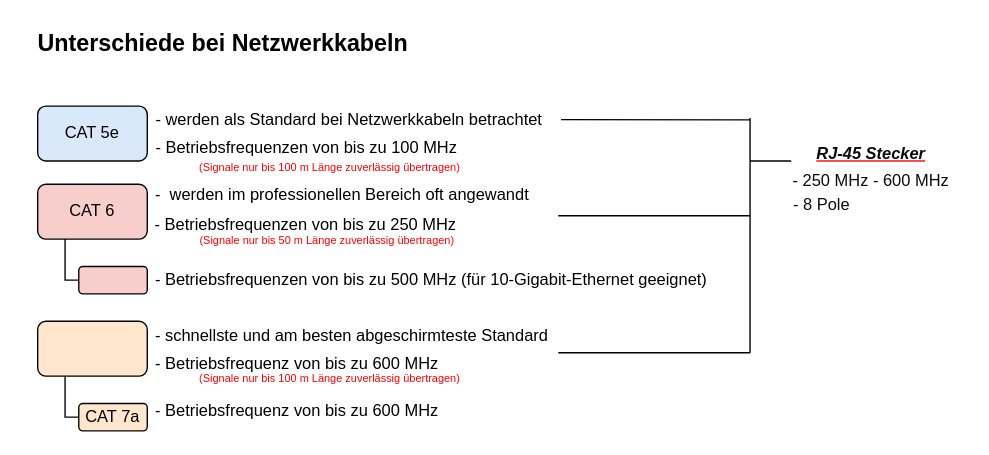
Some shapes in this 989 by 455 pixel diagram are drawn without their labels. The box of each missing label's shape, as (x1, y1, x2, y2) in pixels:
CAT 6a: (77, 265, 147, 294)
CAT 7: (36, 320, 147, 376)
